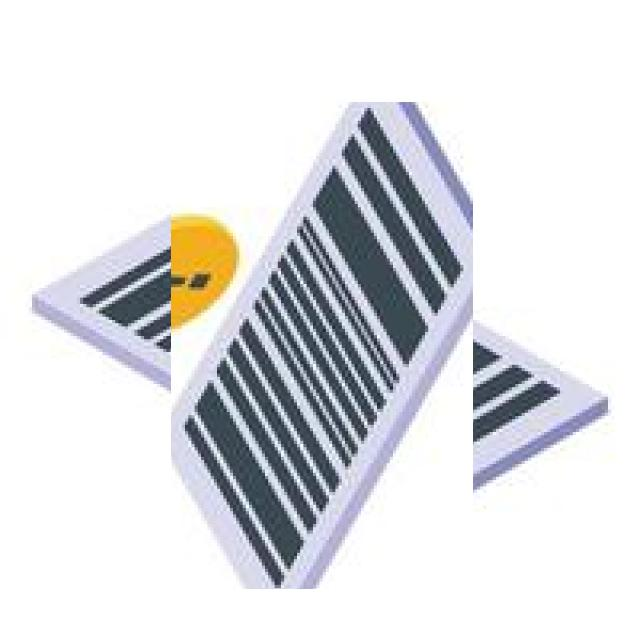Barkod: (125, 148, 520, 542)
